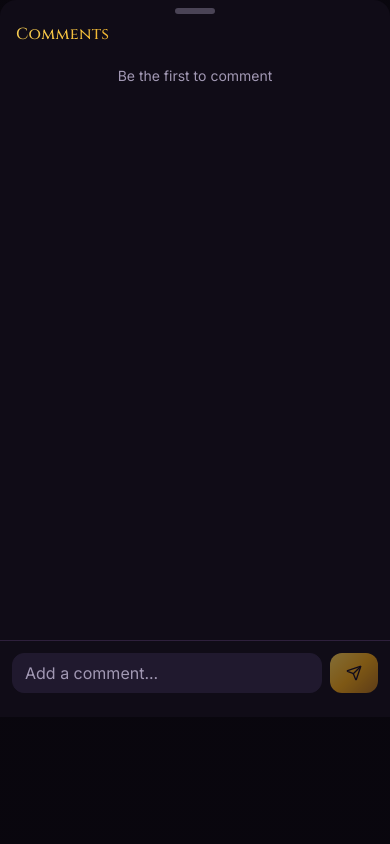
CommentsDrawer › optimistically shows the comment and dispatches crownme:comment-added on send
Check: the text "Be the first to comment" is shown, box [118,67,272,84]
Type "hello world" into the field labelled "Add a comment" at (167, 673), box [12,653,322,693]
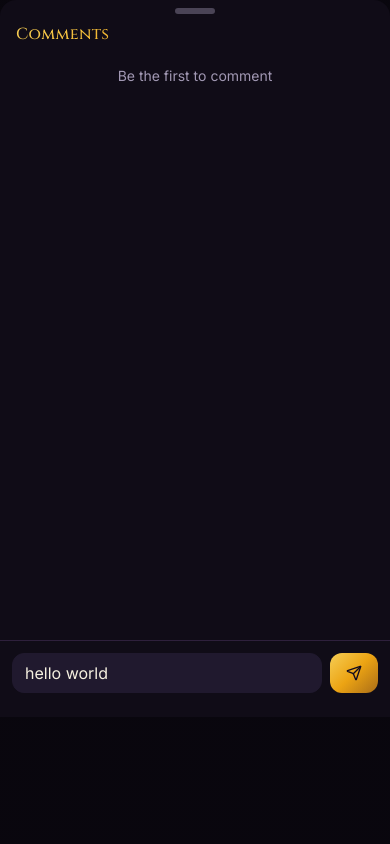
Click the button named "Send comment" at (354, 673), box [330,653,378,693]
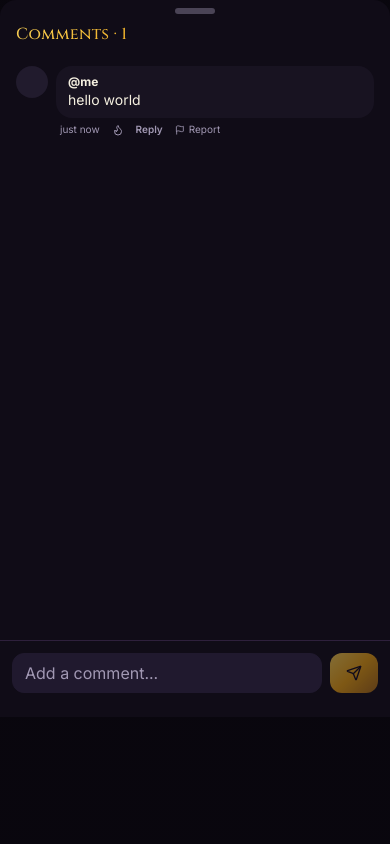
Check: the text "hello world" is shown, box [68,91,141,108]
